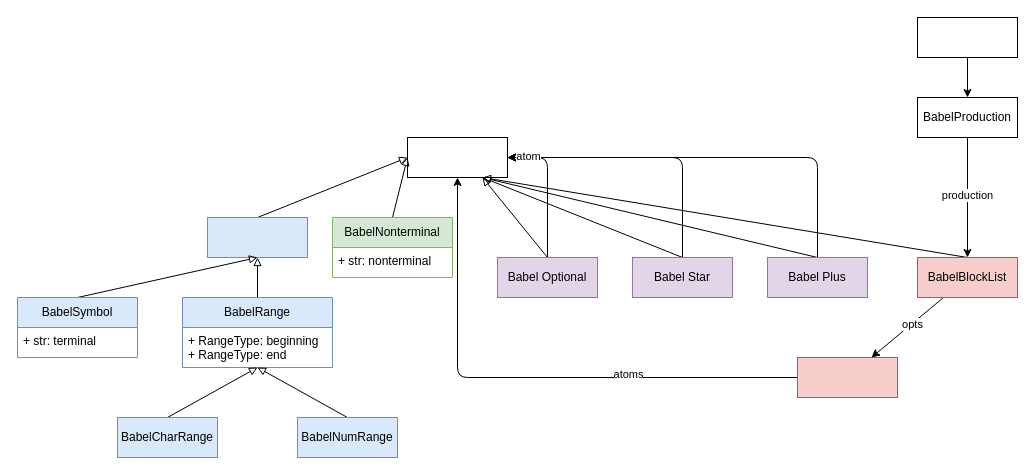
The diagram is 1035 pixels wide and 475 high, and some of its shapes have lost their labels. Each missing label, with the centre of its shape:
"BabelAtom" belongs at point (457, 157).
"BabelBlock" belongs at point (847, 377).
"BabelIr" belongs at point (967, 37).
"BabelTerminal" belongs at point (257, 237).
